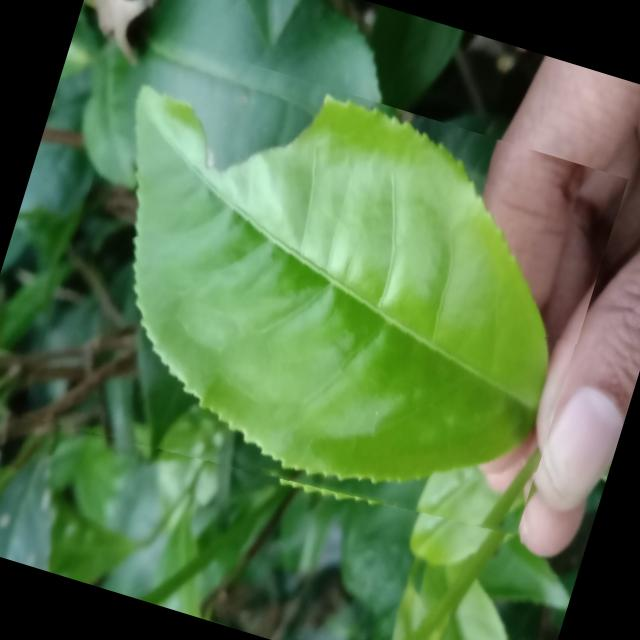Category C(4-7 days): (20, 28, 628, 564)
